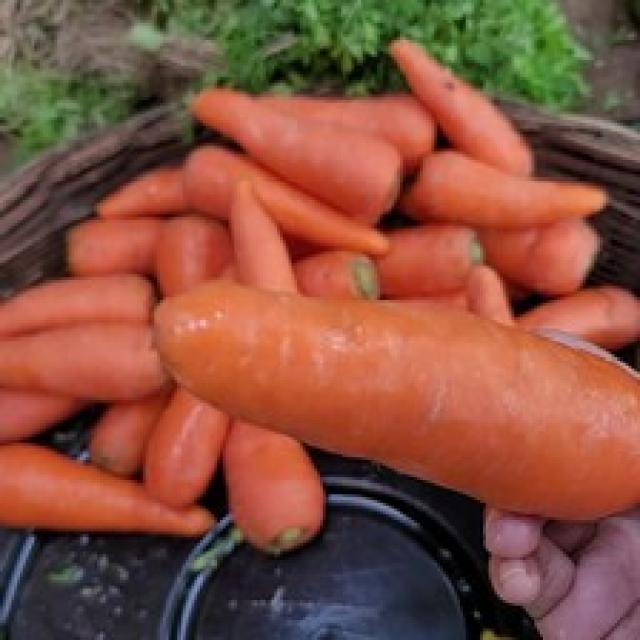Fresh_Carrot: (152, 288, 640, 524), (192, 93, 404, 215), (0, 446, 213, 536)
